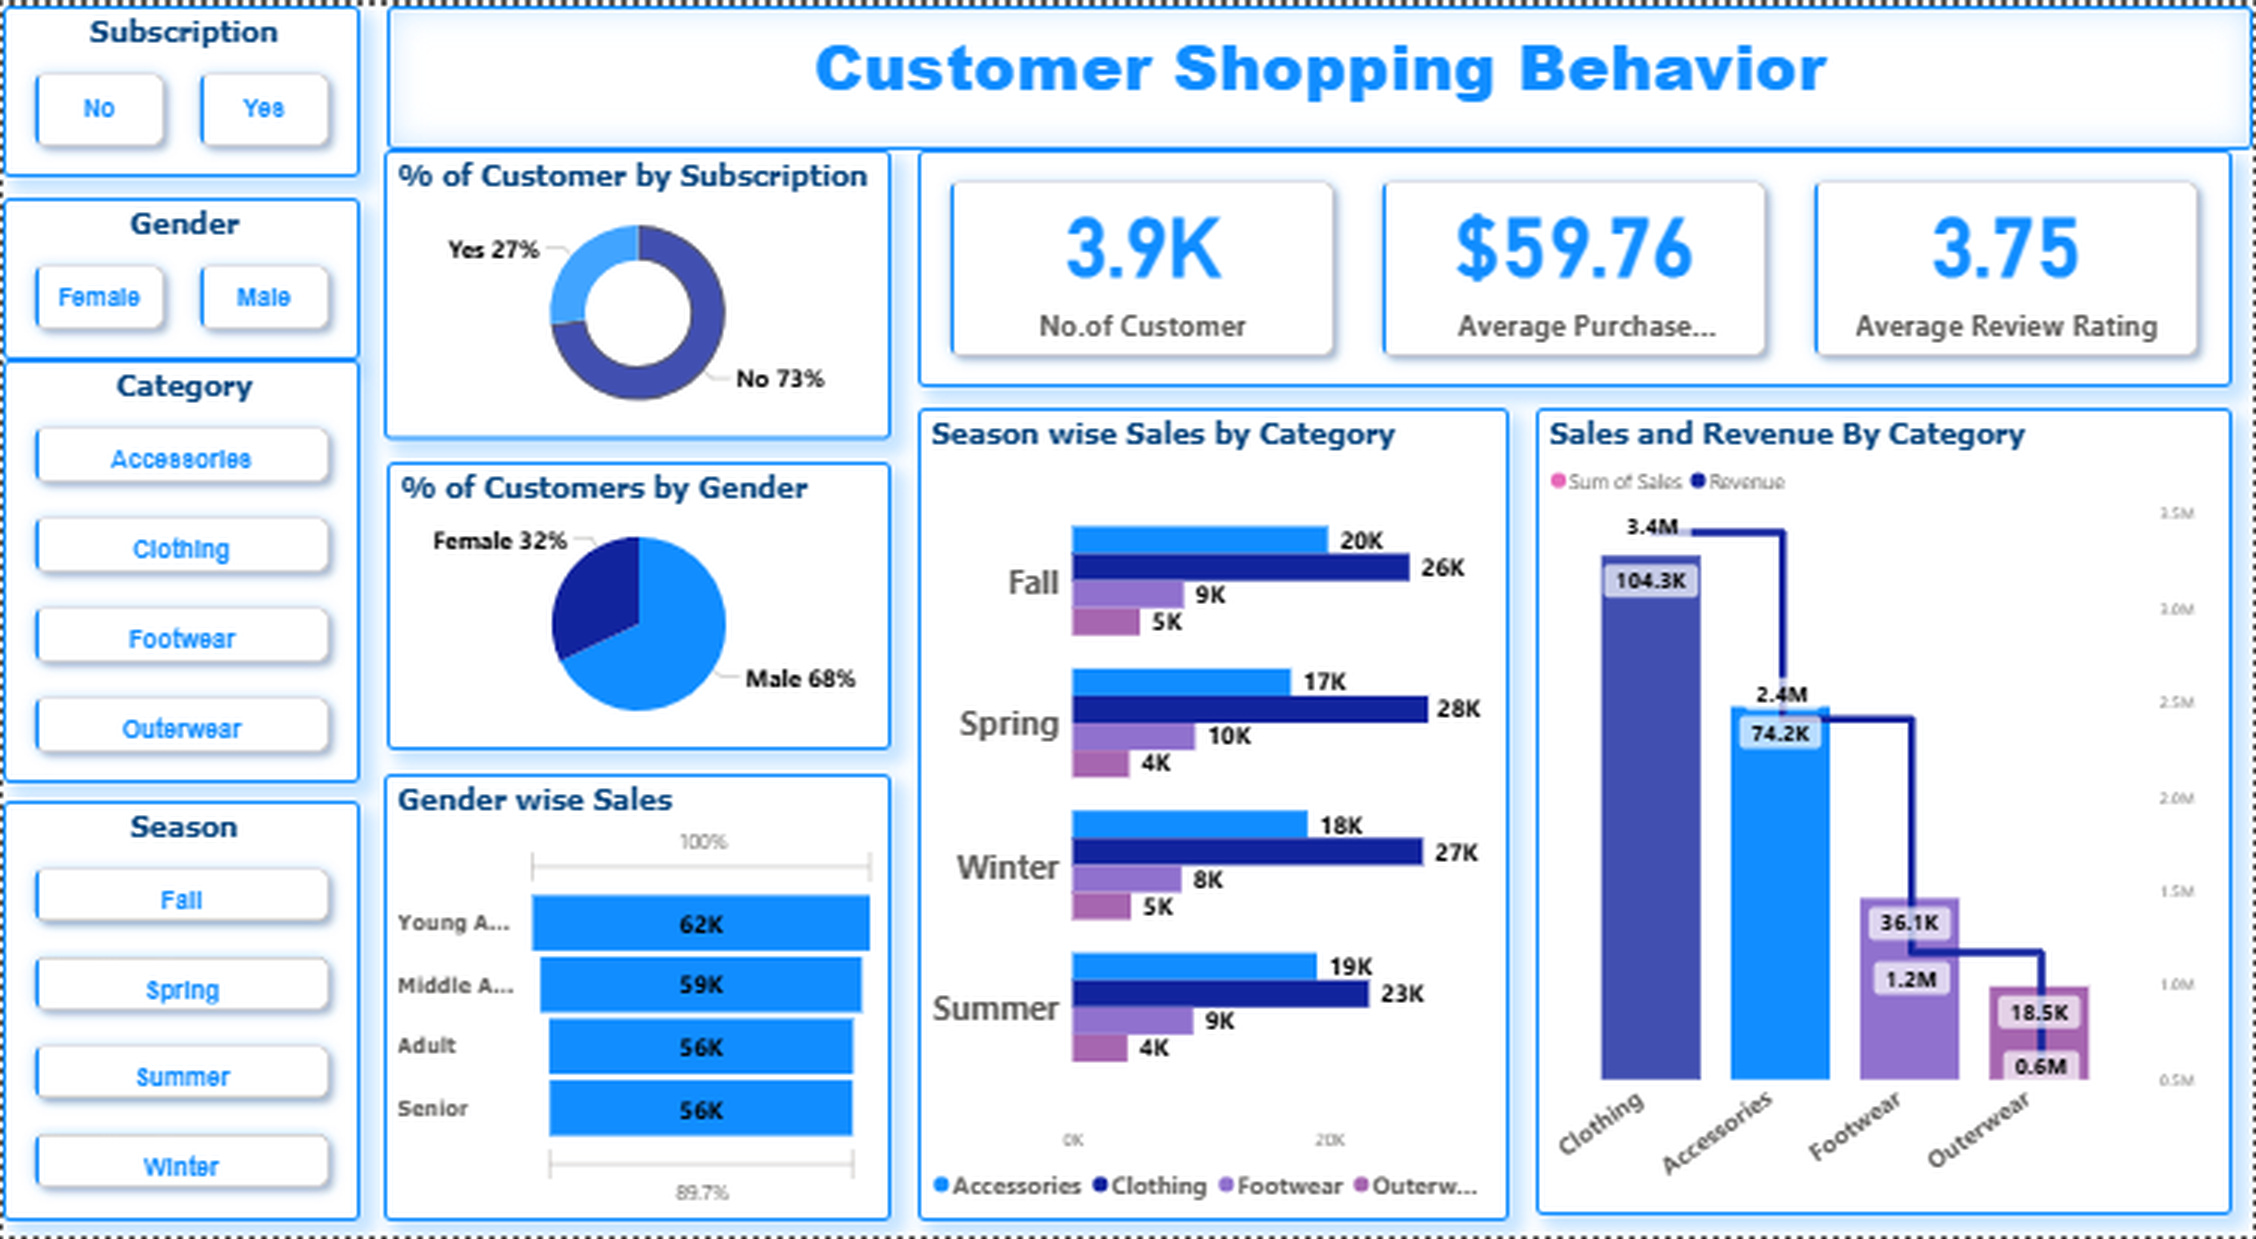

What the dashboard file says about the page in this screenshot:
{"tool":"powerbi","page":{"name":"Page 1","canvas":[1500,820],"ordinal":0},"visuals":[{"type":"cardVisual","fields":{"Data":["customer_behavior customer.No.of Customer","customer_behavior customer.Average Purchase Amount","customer_behavior customer.Average Review Rating"]},"box":[610,96,876,158],"z":0},{"type":"donutChart","title":"% of Customer by Subscription","fields":{"Y":["CountNonNull(customer_behavior customer.customer_id)"],"Category":["customer_behavior customer.subscription_status"]},"box":[253.3,96.7,338.3,193.3],"z":1000},{"type":"lineClusteredColumnComboChart","title":"Sales and Revenue By Category","fields":{"Category":["customer_behavior customer.category"],"Y":["Sum(customer_behavior customer.purchase_amount)"],"Y2":["Sum(customer_behavior customer.customer_id)"]},"box":[1022,268,464,538],"z":2000},{"type":"funnel","title":"Gender wise Sales","fields":{"Category":["customer_behavior customer.age_group"],"Y":["Sum(customer_behavior customer.purchase_amount)"]},"box":[254,512,338,298],"z":3000},{"type":"advancedSlicerVisual","title":"Gender","fields":{"Values":["customer_behavior customer.gender"]},"box":[0,128,238,108],"z":4000},{"type":"advancedSlicerVisual","title":"Subscription","fields":{"Values":["customer_behavior customer.subscription_status"]},"box":[0,0,238,114],"z":5000},{"type":"advancedSlicerVisual","title":"Category","fields":{"Values":["customer_behavior customer.category"]},"box":[0,236,238,282],"z":6000},{"type":"advancedSlicerVisual","title":"Season","fields":{"Values":["customer_behavior customer.season"]},"box":[0,530,238,280],"z":7000},{"type":"clusteredBarChart","title":"Season wise Sales  by Category","fields":{"Category":["customer_behavior customer.season"],"Series":["customer_behavior customer.category"],"Y":["Sum(customer_behavior customer.purchase_amount)"]},"box":[610,268,394,542],"z":8000},{"type":"pieChart","title":"% of Customers by Gender","fields":{"Y":["CountNonNull(customer_behavior customer.customer_id)"],"Category":["customer_behavior customer.gender"]},"box":[256,304,336,192],"z":9000},{"type":"textbox","box":[256,0,1244,96],"z":10000}]}

Visuals, with their boxes in screenshot pixels (x1, y1, x2, y2), scaled from the page's 1500x820 canvas onto the 2256x1239 screenshot:
cardVisual - customer_behavior customer.No.of Customer x customer_behavior customer.Average Purchase Amount: <box>917,145,2235,384</box>
"% of Customer by Subscription" donutChart: <box>381,146,890,438</box>
"Sales and Revenue By Category" lineClusteredColumnComboChart: <box>1537,405,2235,1218</box>
"Gender wise Sales" funnel: <box>382,774,890,1224</box>
"Gender" advancedSlicerVisual: <box>0,193,358,357</box>
"Subscription" advancedSlicerVisual: <box>0,0,358,172</box>
"Category" advancedSlicerVisual: <box>0,357,358,783</box>
"Season" advancedSlicerVisual: <box>0,801,358,1224</box>
"Season wise Sales  by Category" clusteredBarChart: <box>917,405,1510,1224</box>
"% of Customers by Gender" pieChart: <box>385,459,890,749</box>
textbox: <box>385,0,2255,145</box>
